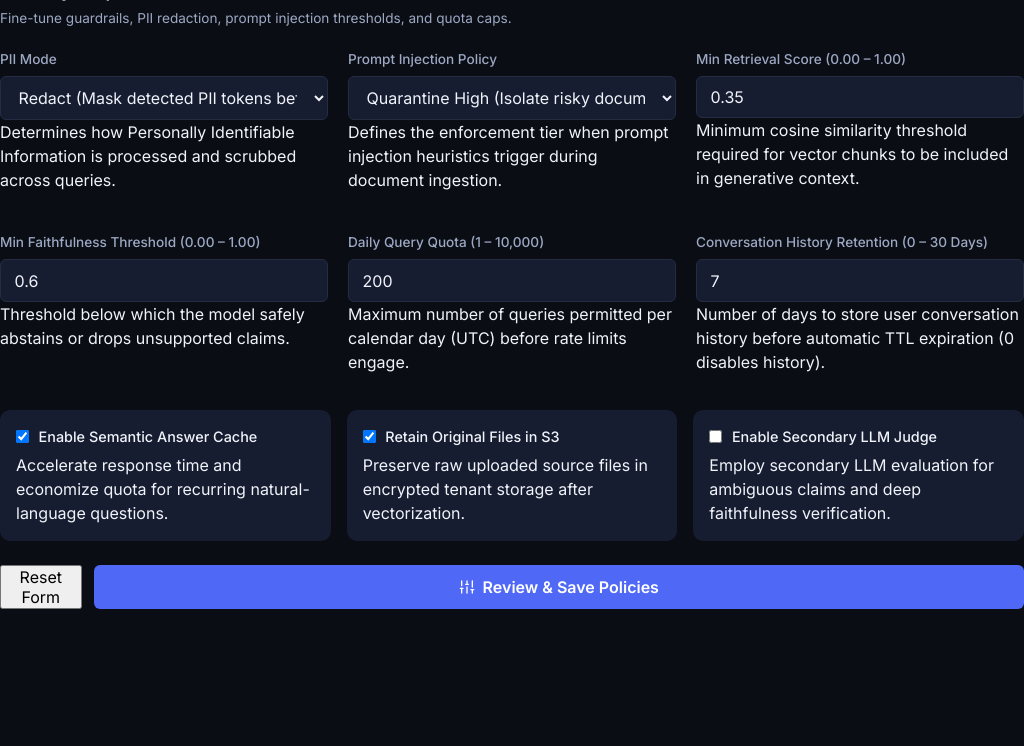
it: PoliciesTab Component › shows confirmation modal before saving and applies updates
# Change pii_mode and llm_judge_enabled
Select "Block (Abstain if question or context contains PII)" in the dropdown with test id "input-pii-mode" at (164,98), box [0, 76, 328, 120]
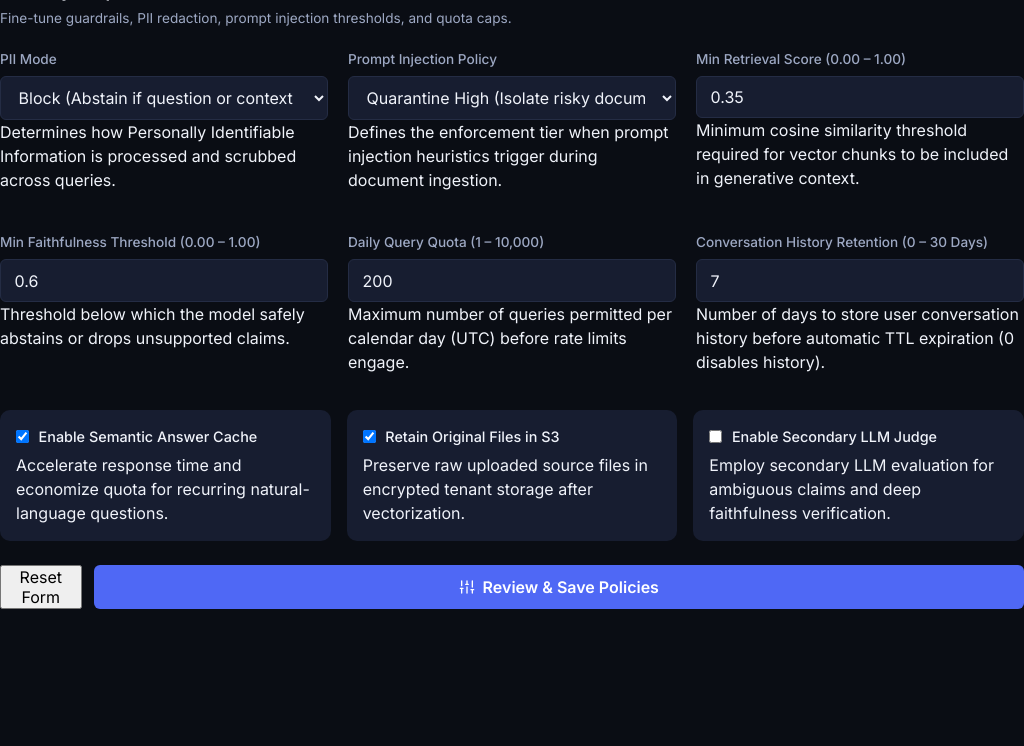
Click the checkbox with test id "toggle-llm-judge" at (716,437), box [709, 430, 722, 443]
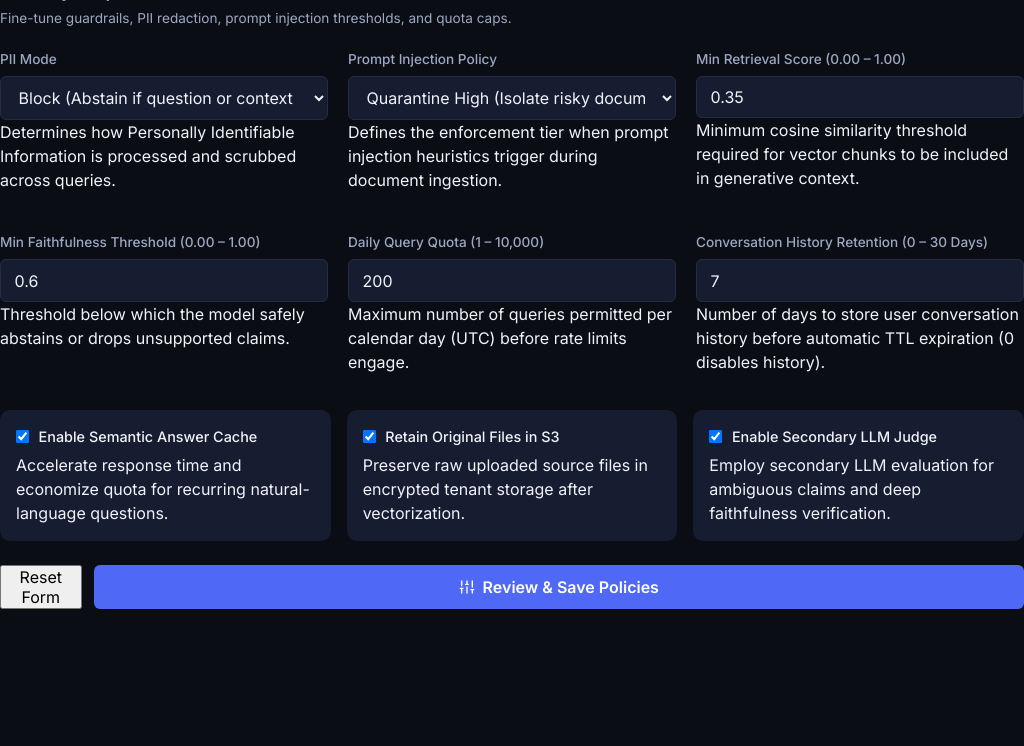
# Click Review & Save
Click the button with test id "btn-save-policies" at (559,587), box [94, 565, 1023, 609]
(page scrolled)
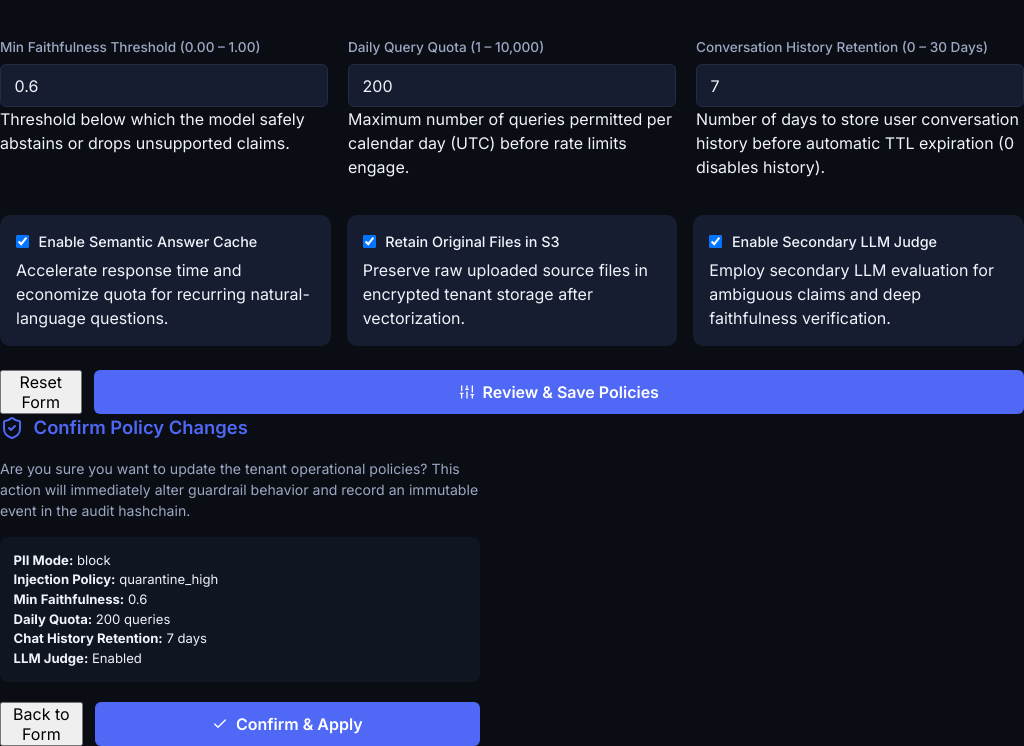
Expected: the element with test id "policies-confirm-modal" is shown, [0, 416, 480, 745]
Expected: the heading "Confirm Policy Changes" is shown, [34, 414, 248, 442]
# Click Confirm & Apply
Click the button with test id "btn-confirm-save-policies" at (287,724), box [95, 702, 480, 745]
(page scrolled)
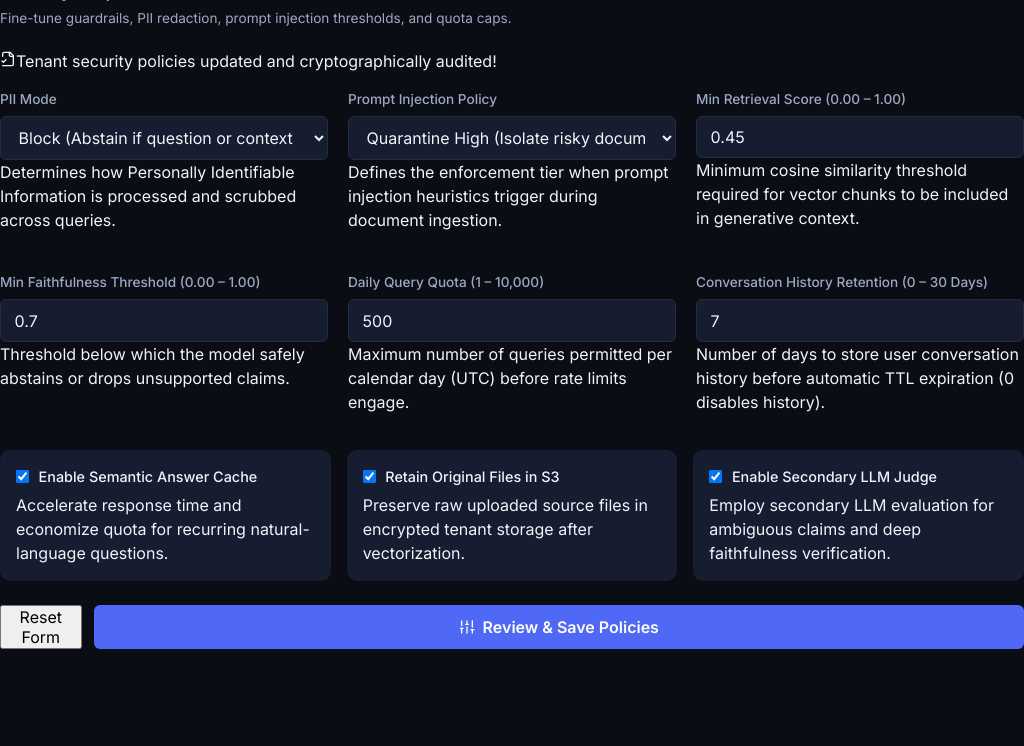
Expected: the element with test id "policies-success-banner" is shown, [0, 51, 497, 71]
